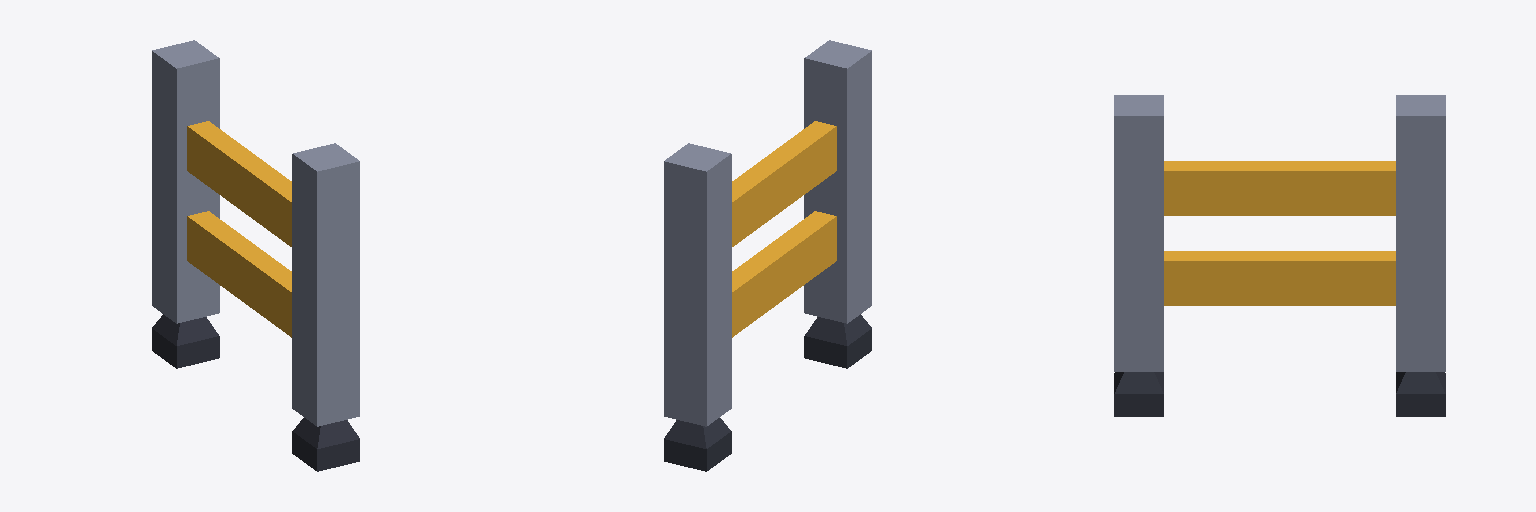
File: structure-yellow-medium.obj
3 views of the same model, side by side, from view 1: azimuth 30°, elevation 25°; view 2: azimuth 150°, elevation 25°; view 3: azimuth 270°, elevation 25° (orthographic).
Parts seen in each view (by area): view 1: structure-yellow-medium; view 2: structure-yellow-medium; view 3: structure-yellow-medium.
Part boxes in pixels (bbox=[...]): structure-yellow-medium: bbox=[152, 40, 359, 471]; structure-yellow-medium: bbox=[664, 40, 871, 471]; structure-yellow-medium: bbox=[1114, 95, 1445, 416].
Bounding box in the file's own units: 0.15 × 1 × 1.